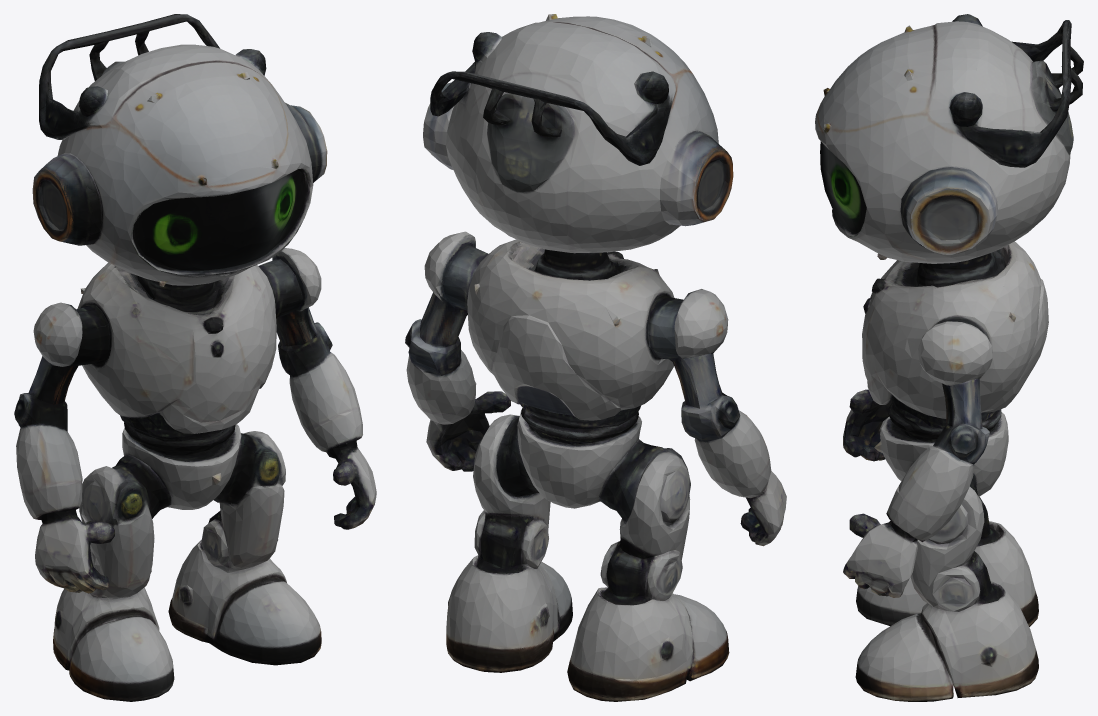
The model's file is stellAg-SORA3D.glb.
The picture shows the model from 3 angles, left to right: view 1: azimuth 30°, elevation 25°; view 2: azimuth 150°, elevation 25°; view 3: azimuth 270°, elevation 25°; orthographic projection. The views are drawn at different scales.
Visible parts, largest first — view 1: world; view 2: world; view 3: world.
Boxes of the visible parts, x1,y1,x2,y2 form: world: [14, 14, 376, 701]; world: [405, 14, 786, 701]; world: [815, 14, 1083, 701].
Bounding box in the file's own units: 0.487 × 0.8235 × 0.3304.
Materials: 1 (1 with a texture image).
